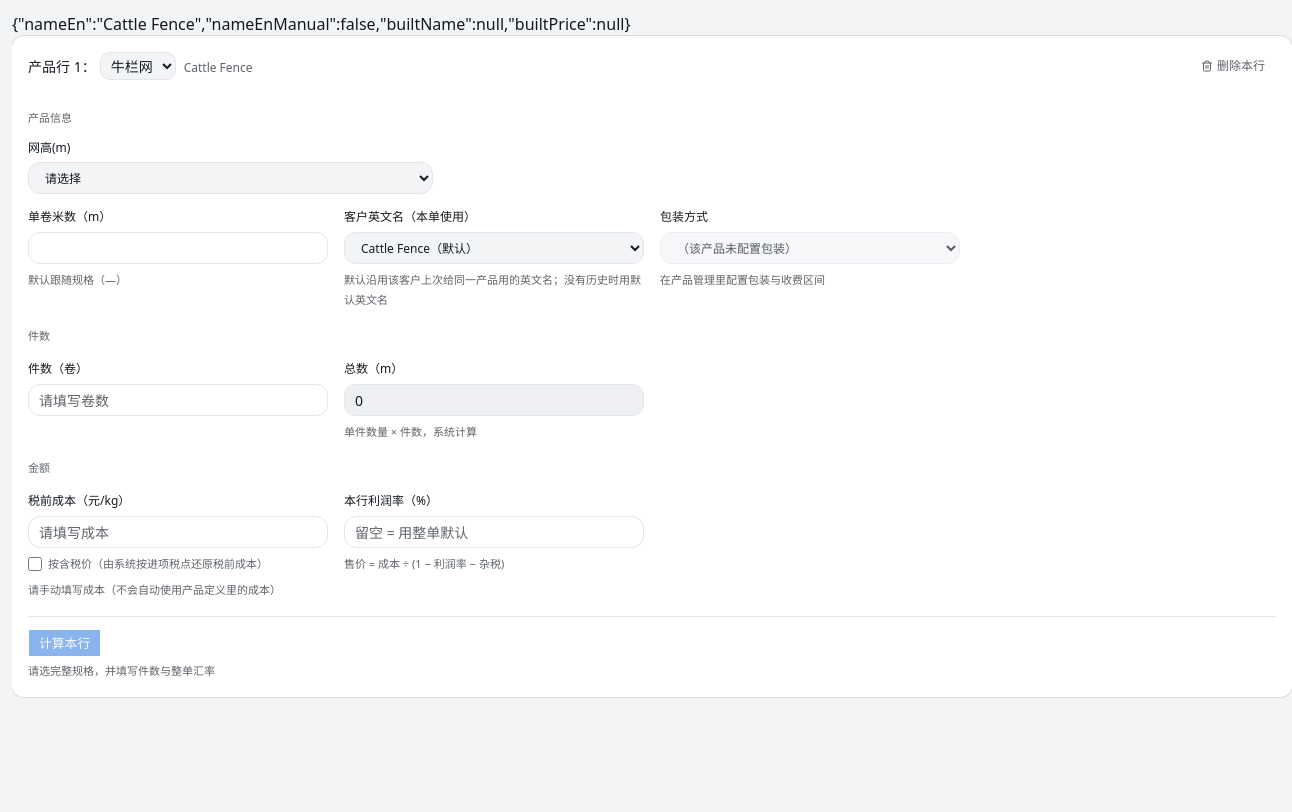
Scenario: 手选英文名 → 本单落库名 / built 同步 / 折叠摘要 › 选第 2 个名：nameEn + nameEnManual 写回，buildLineItem 的 item.product_name = 该名
Select "Field Fence" in the dropdown labelled "客户英文名（本单使用）". click: (494, 248)
box: [344,232,644,264]
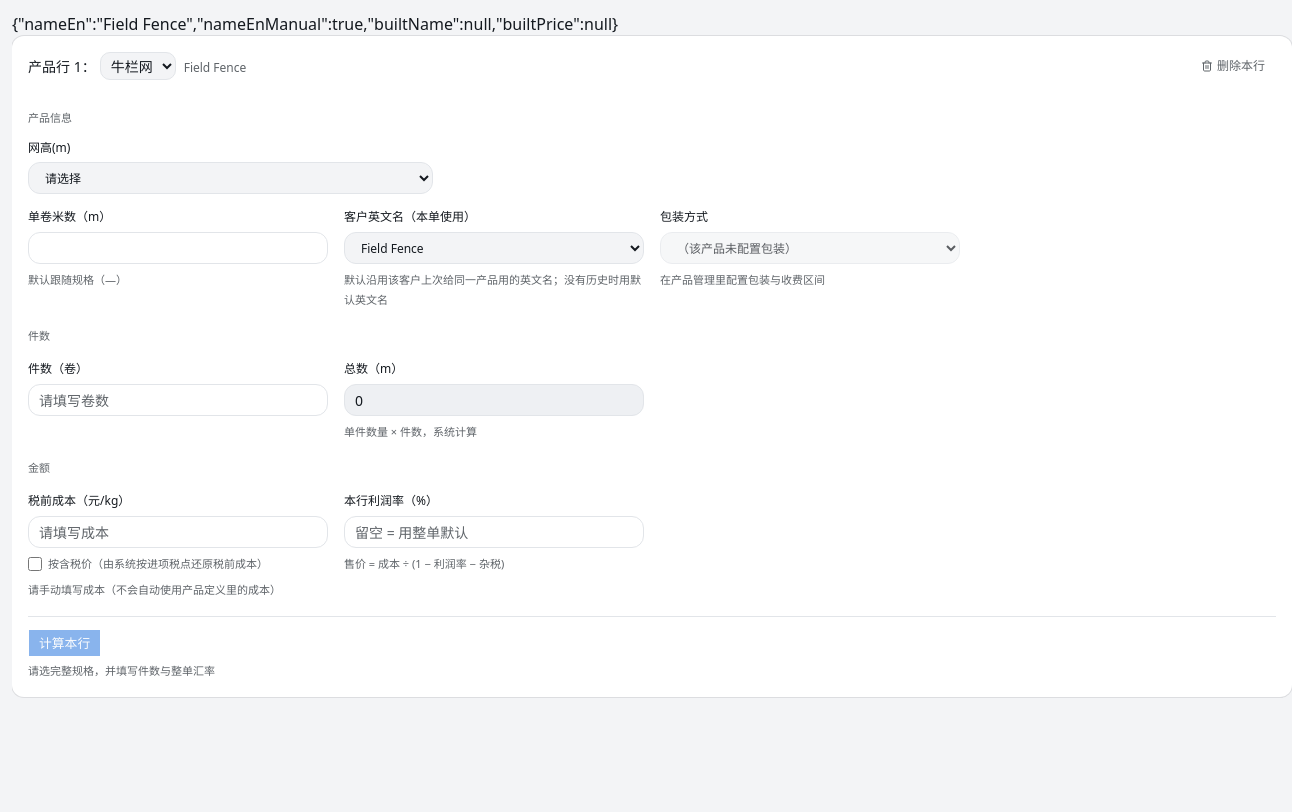
Check: the text "Field Fence" is shown, box [184,58,246,76]
